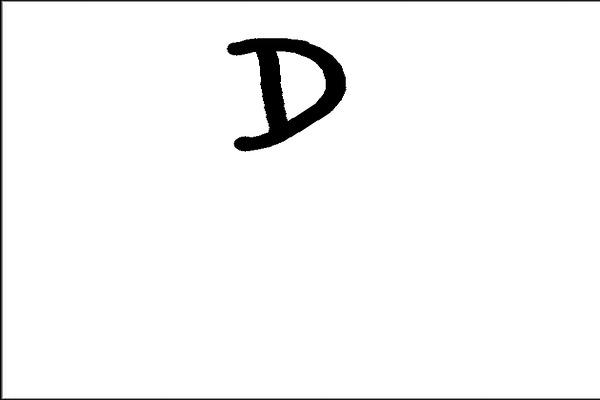D: (223, 27, 351, 154)
